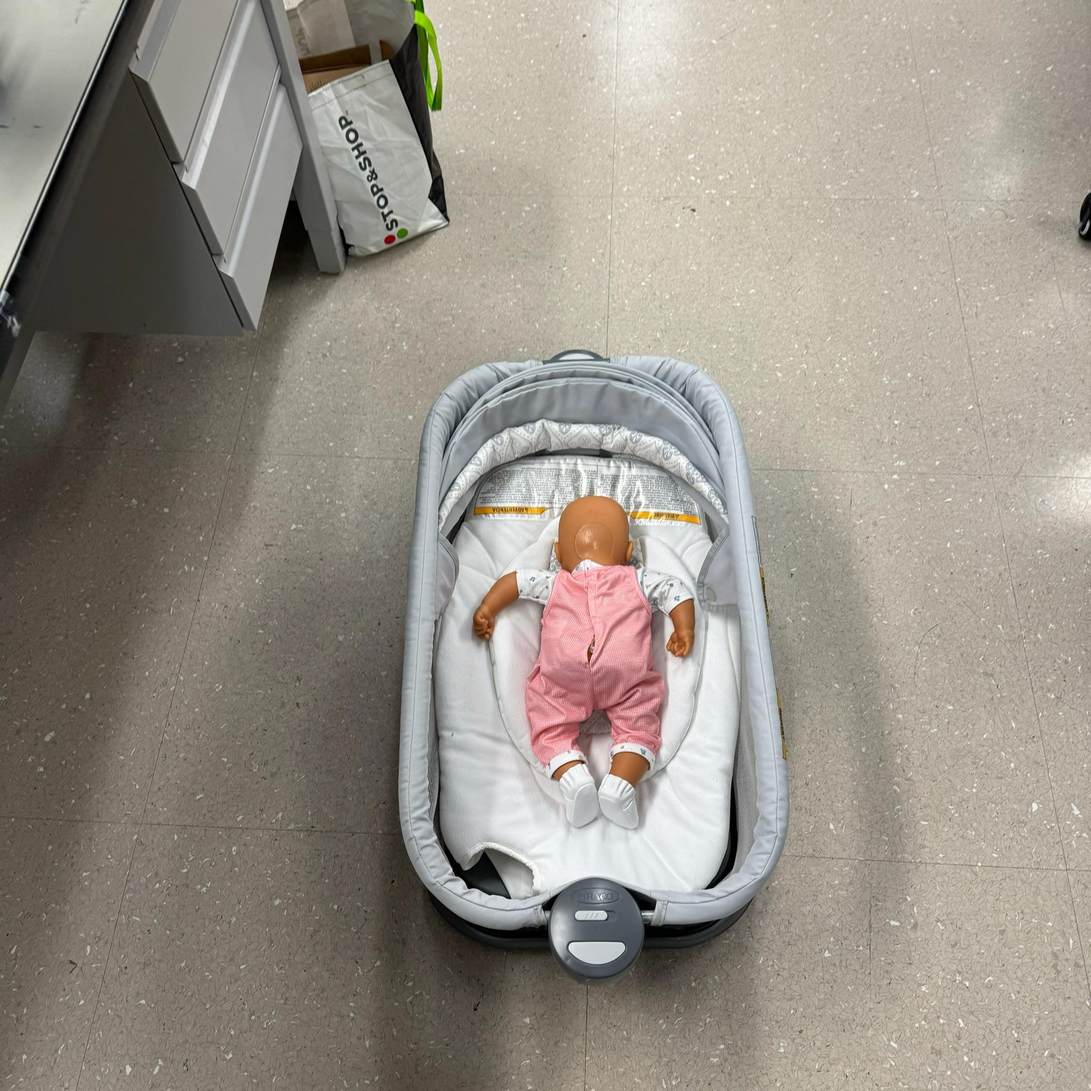baby: (471, 493, 704, 828)
